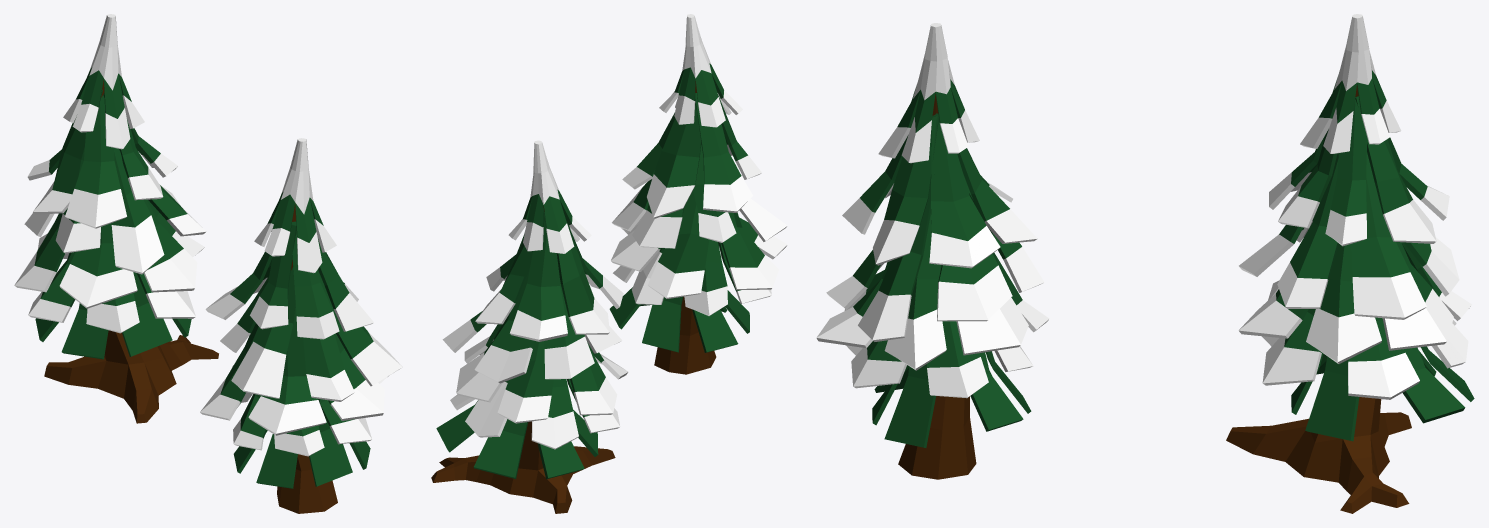
File: DRZEWA_FAT.fbx
3 views of the same model, side by side, from view 1: azimuth 30°, elevation 25°; view 2: azimuth 150°, elevation 25°; view 3: azimuth 270°, elevation 25° (orthographic). The views are drawn at different scales.
Parts seen in each view (by area): view 1: Cube.008, Cube.010; view 2: Cube.008, Cube.010; view 3: Cube.008, Cube.010.
Part boxes in pixels (left/top/right/bottom): Cube.008: left=14, top=14, right=218, bottom=423; Cube.010: left=200, top=138, right=402, bottom=513; Cube.008: left=431, top=140, right=628, bottom=513; Cube.010: left=609, top=14, right=787, bottom=374; Cube.008: left=1226, top=14, right=1474, bottom=513; Cube.010: left=816, top=23, right=1049, bottom=479.
Size of the model in its own units: 302 by 541 by 740.
